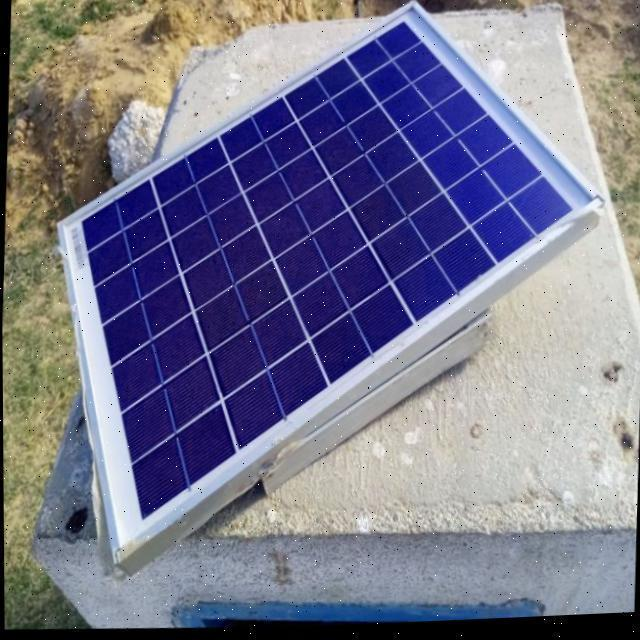Normal Solar Panel: (41, 0, 604, 572)
